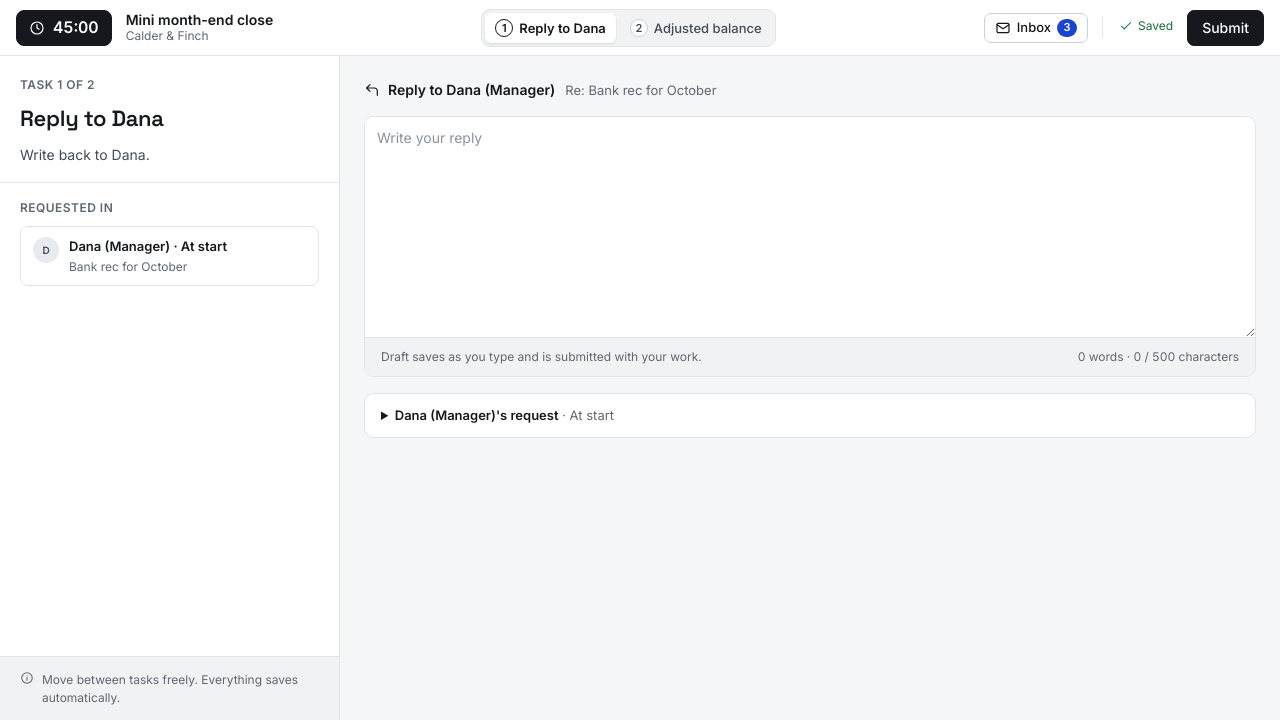
Scenario: autosave › shows an error and a banner when the server rejects the save, and Retry now sends it again
This screenshot has width=1280, height=720.
In the text box labelled "reply": (810, 227) [365,117,1255,337], type "x"
Wait 700 ms
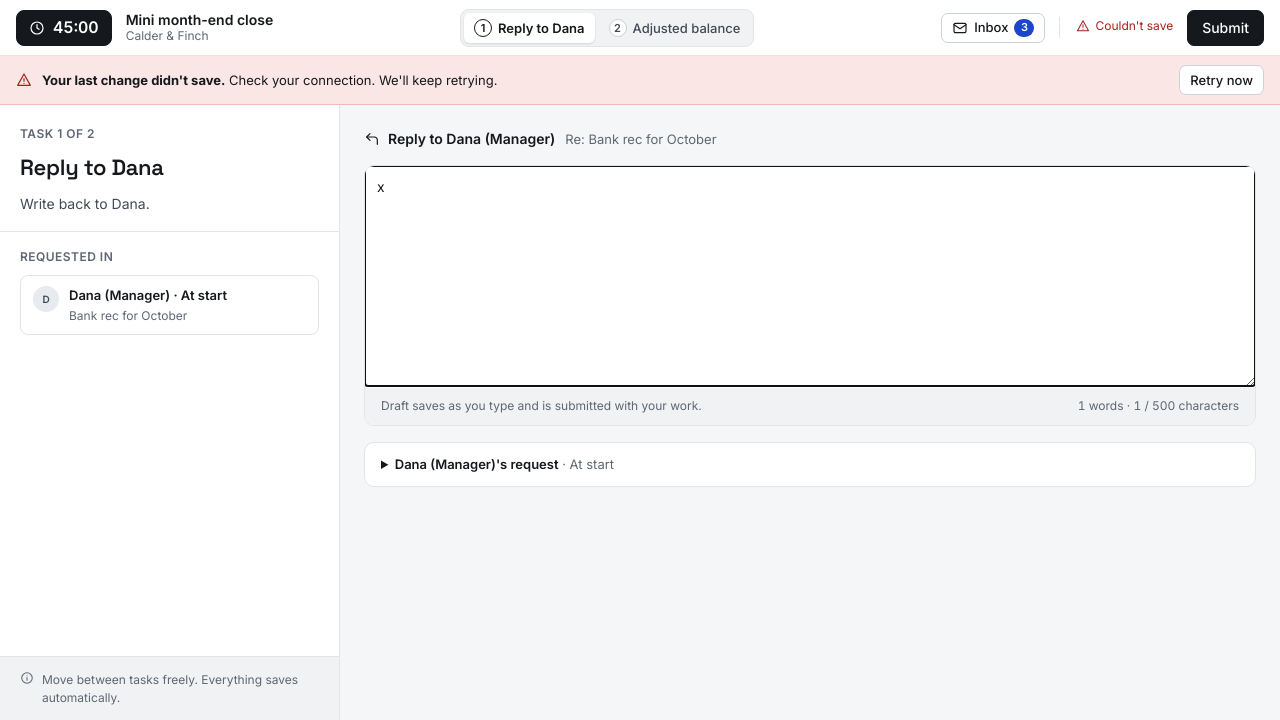
Now the element with test id "save-status" reads "Couldn't save", box [1095,18,1173,33]
Now the message shows "Your last change didn't save.", box [42,72,225,88]
Click the button "Retry now": click(1222, 80) [1179,65,1264,95]
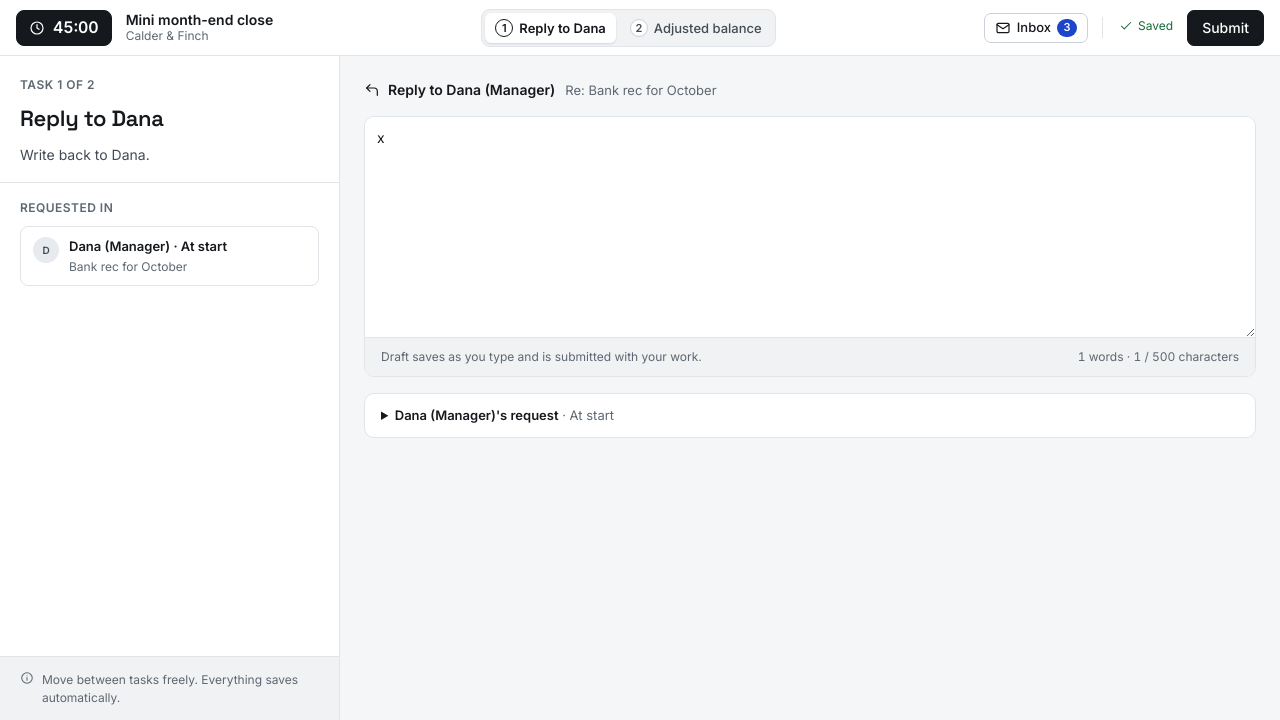
Now the element with test id "save-status" reads "Saved", box [1138,18,1173,33]
Now the message "Your last change didn't save. Check your connection. We'll keep retrying. Retry" is gone
